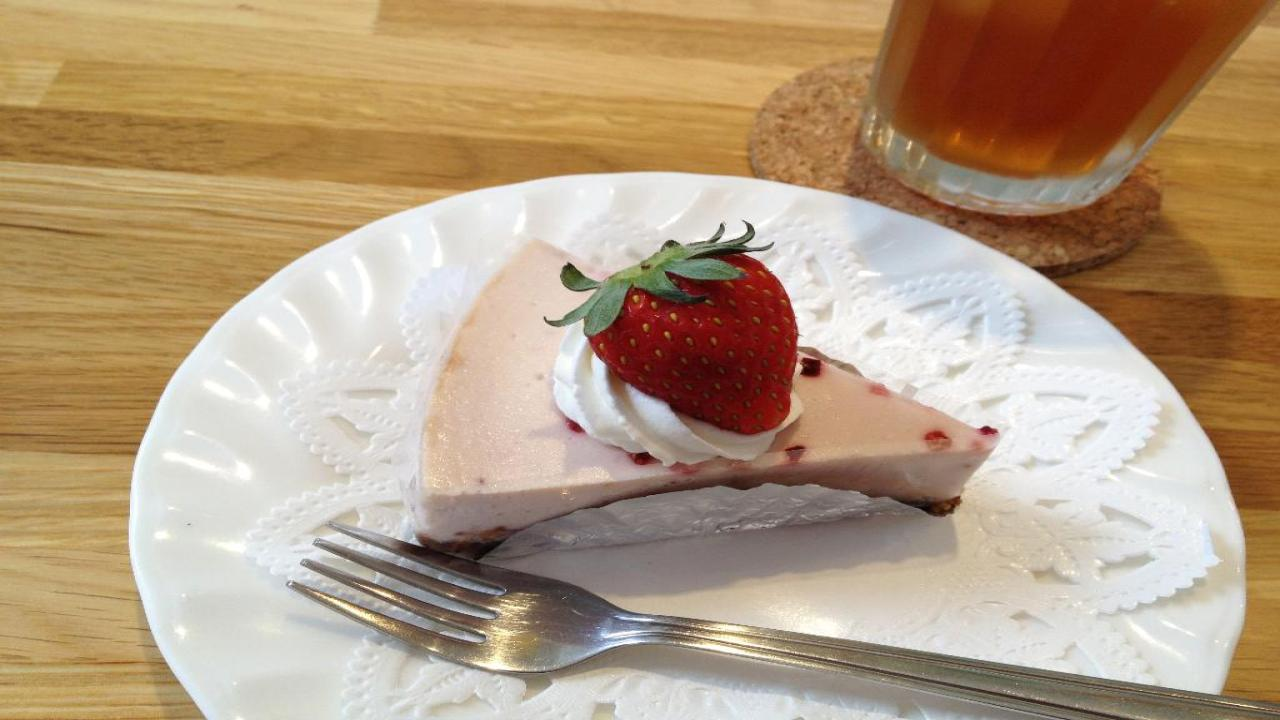fork: (284, 524, 1280, 720)
